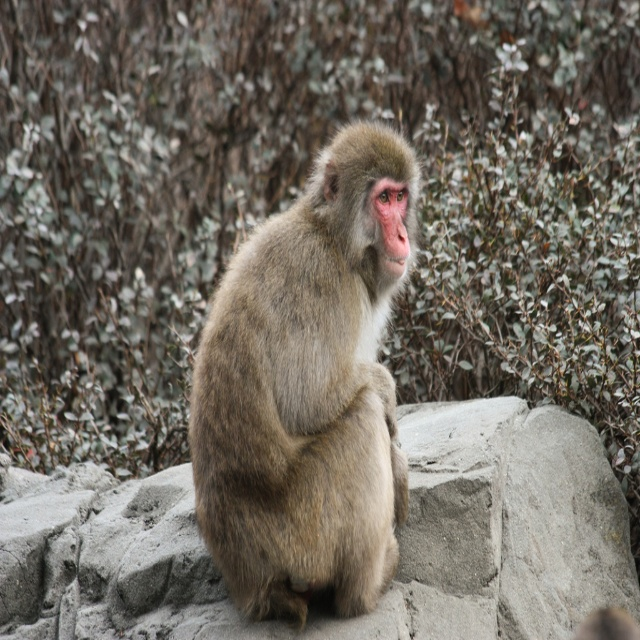Monkey: (192, 105, 417, 638)
